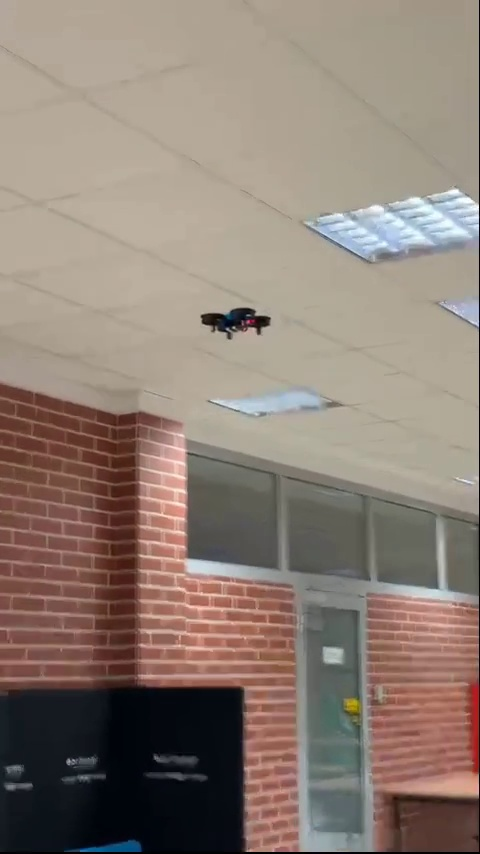drone: (195, 304, 274, 339)
